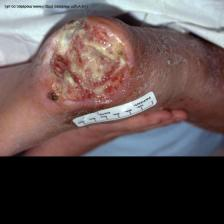Wound: (38, 16, 133, 106)
